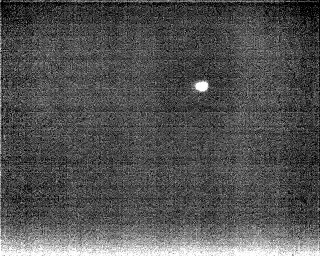AIRPLANE: (193, 78, 210, 95)
